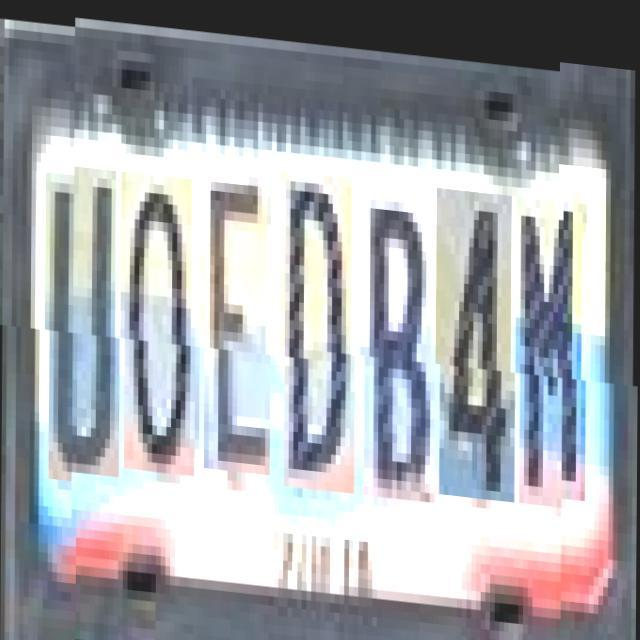4: (440, 178, 517, 490)
B: (364, 180, 436, 492)
D: (285, 164, 357, 486)
E: (205, 166, 272, 470)
M: (520, 184, 588, 496)
O: (125, 168, 197, 472)
U: (49, 162, 121, 474)
